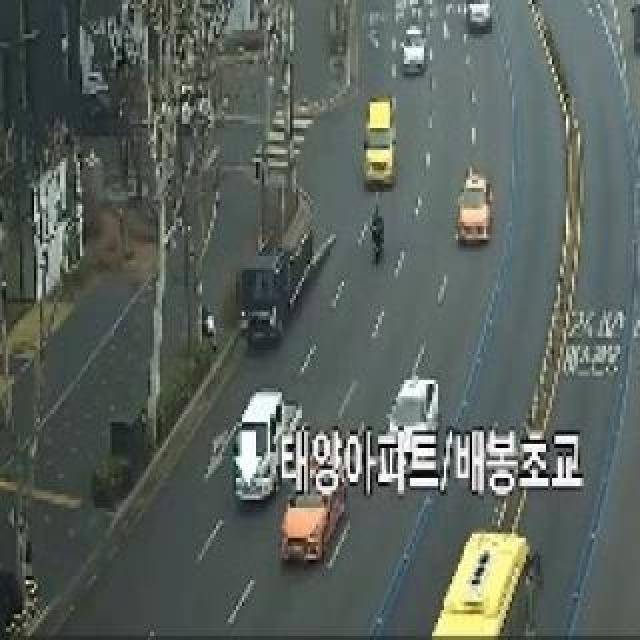motorbike: (367, 200, 387, 266)
truck: (235, 228, 315, 342), (231, 402, 301, 502), (362, 98, 398, 188), (630, 0, 640, 58)
